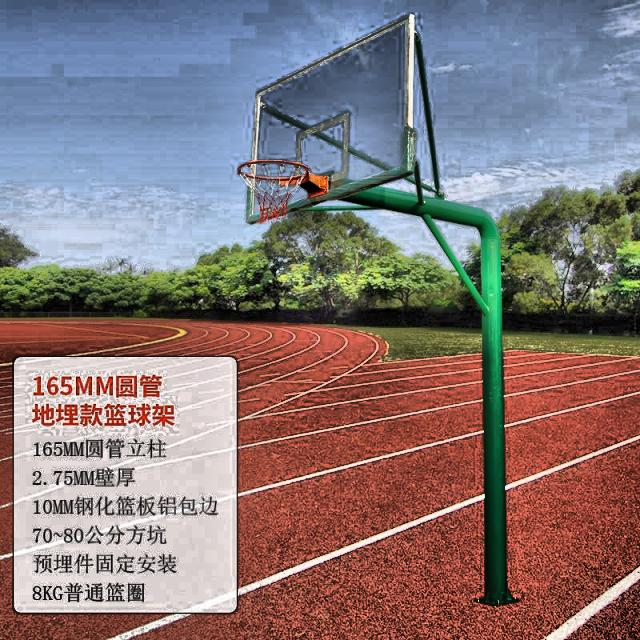rim: (236, 161, 310, 224)
